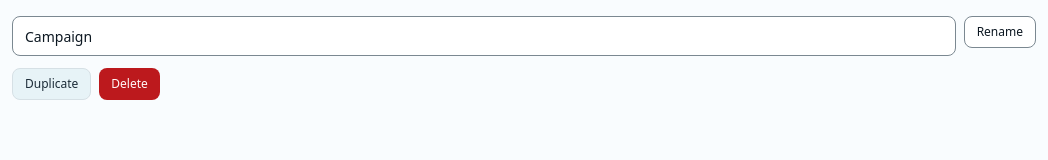
Test: DashboardActions quota feedback › does not inspect or expose an unknown action rejection
Click the button "Duplicate" at (52, 84), box [12,68,91,100]
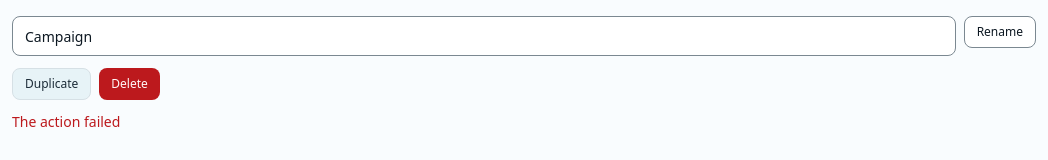
Expected: the message reads "The action failed", [12,112,120,131]
